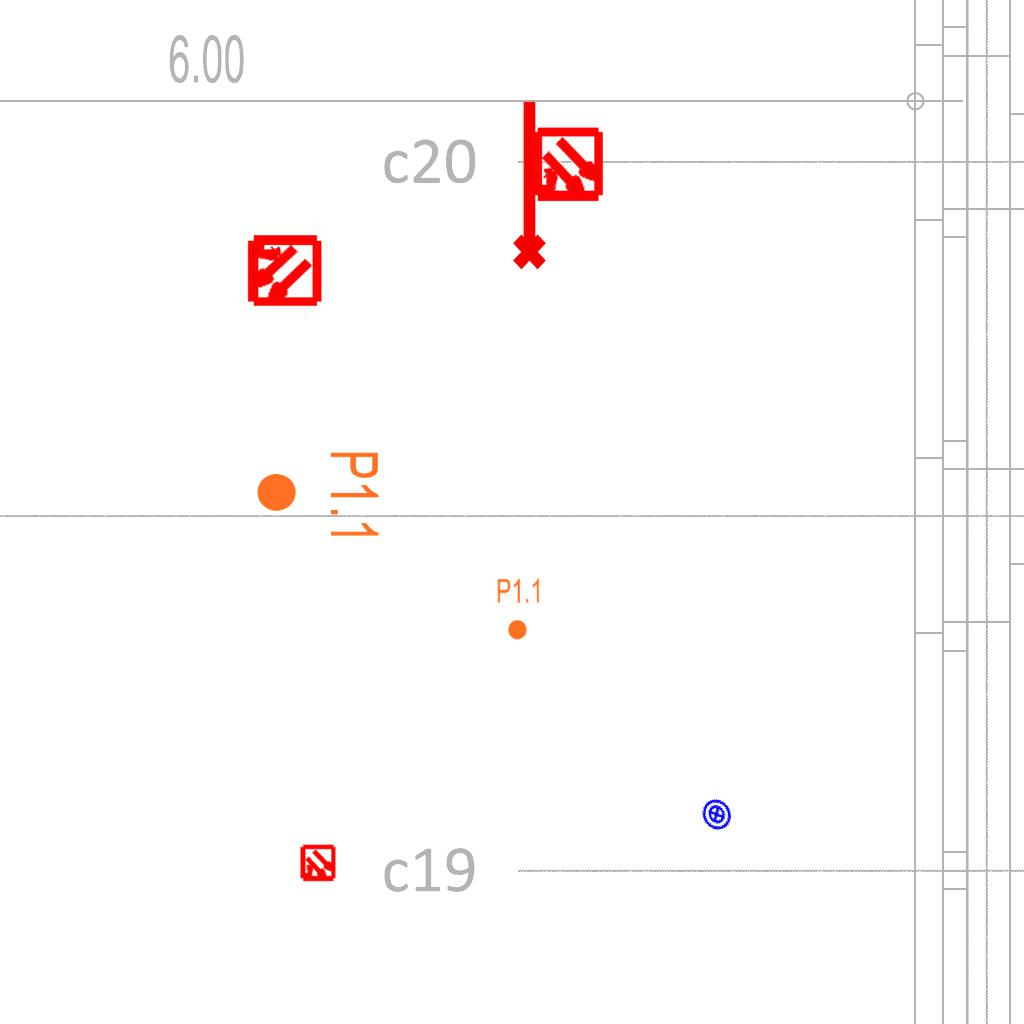ASR_Ansaugoeffnung: (504, 96, 550, 272)
Downlight_LED_Einbauleuchten_Flur: (254, 449, 382, 542), (496, 577, 542, 641)
OT_Multisensormelder_(Kombination_RMO_WMD): (226, 214, 339, 327), (511, 110, 624, 223), (290, 836, 346, 892)
Taster_beleuchtet: (694, 792, 739, 837)
